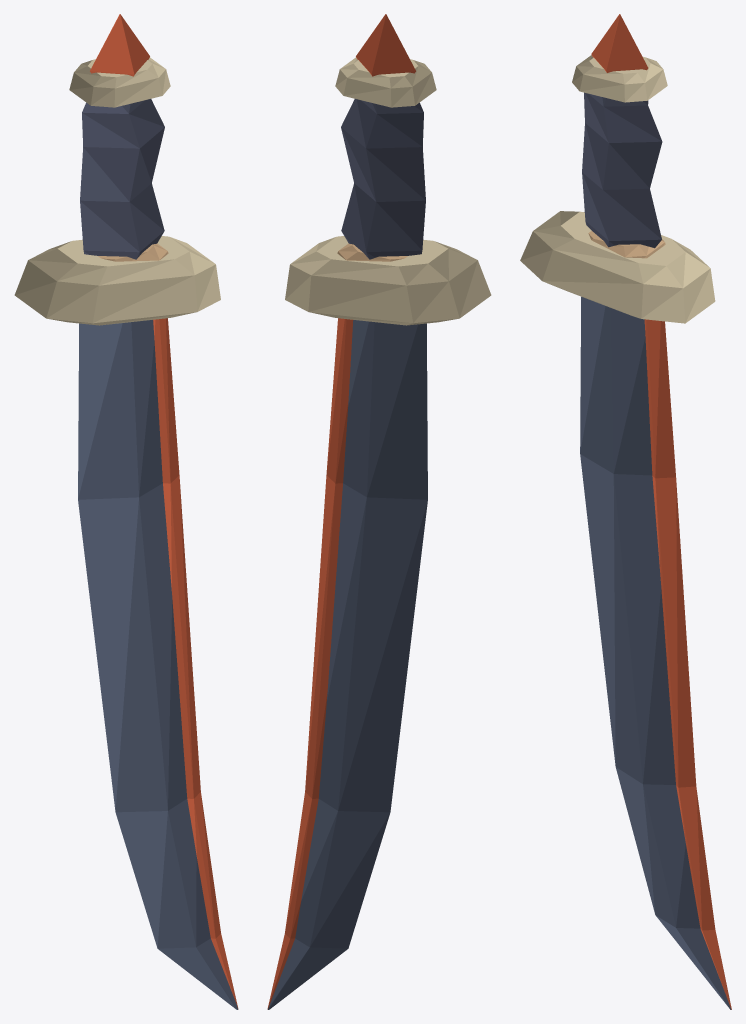
Rendered from 余烬长刀.glb.
3 views of the same model, side by side, from view 1: azimuth 30°, elevation 25°; view 2: azimuth 150°, elevation 25°; view 3: azimuth 330°, elevation 25° (orthographic). The views are drawn at different scales.
Visible parts, largest first — view 1: 余烬长刀; view 2: 余烬长刀; view 3: 余烬长刀.
Boxes of the visible parts, x1,y1,x2,y2 form: 余烬长刀: (14,14,238,1009); 余烬长刀: (267,14,491,1009); 余烬长刀: (520,14,731,1009).
Bounding box in the file's own units: 0.4605 × 2.17 × 0.21.
